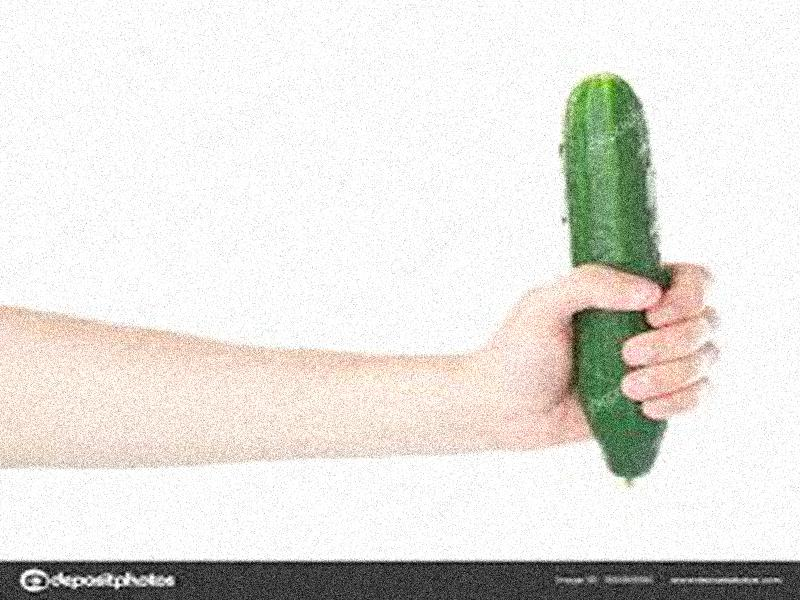Cucumber: (562, 74, 667, 485)
